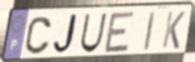C: (23, 15, 53, 56)
E: (103, 10, 136, 55)
I: (142, 9, 157, 53)
J: (52, 12, 81, 56)
K: (160, 10, 187, 50)
U: (79, 12, 109, 55)
